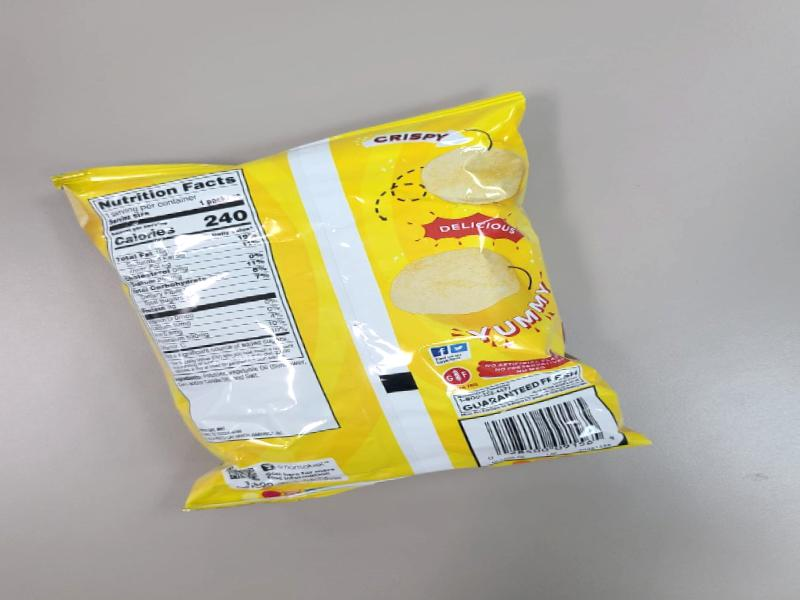lays: (169, 63, 657, 515)
